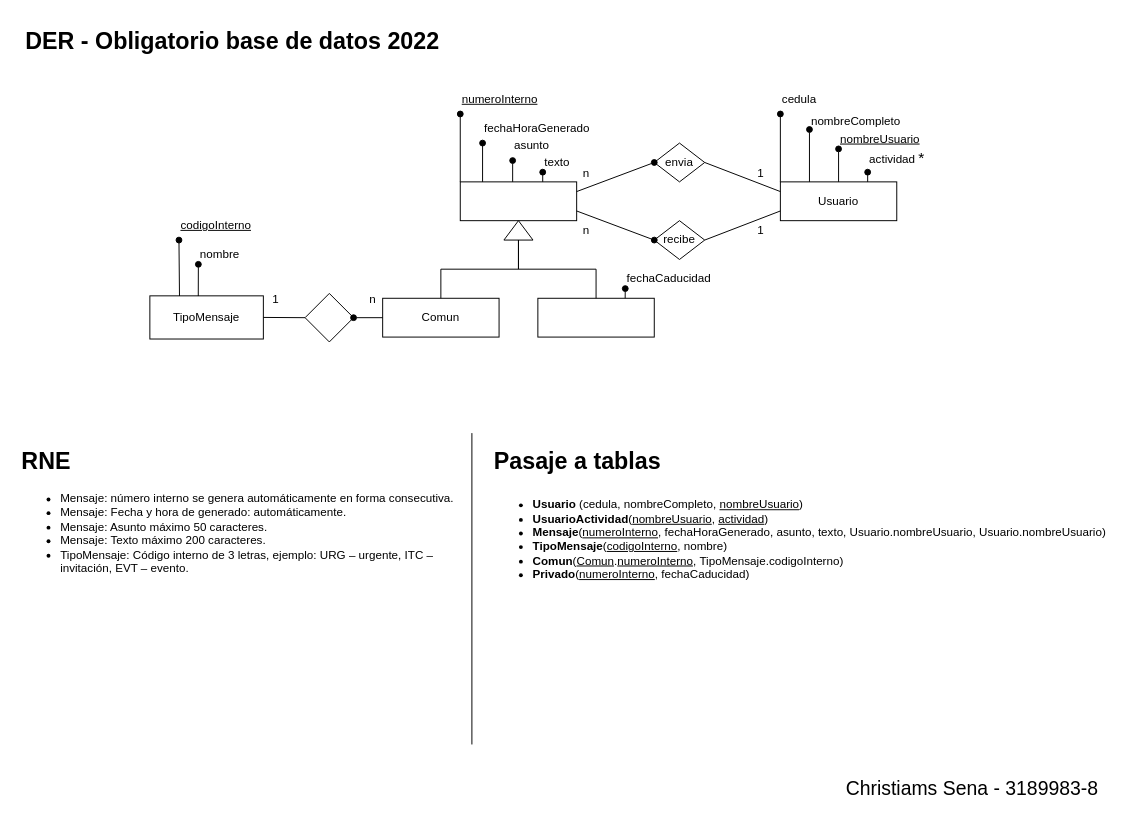
Image size: 1126x819. Some labels were removed from this diagram. Each missing label, with the box of its shape:
es: (304, 292, 354, 342)
Mensaje: (459, 181, 577, 221)
Privado: (537, 297, 654, 337)
